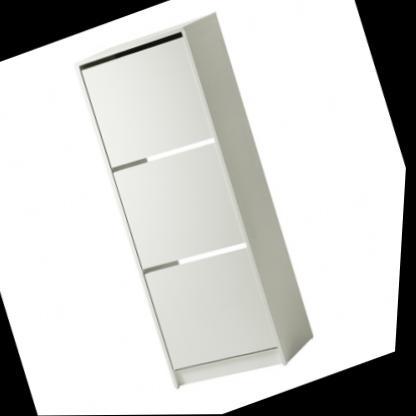Cabinet: (51, 3, 344, 410)
